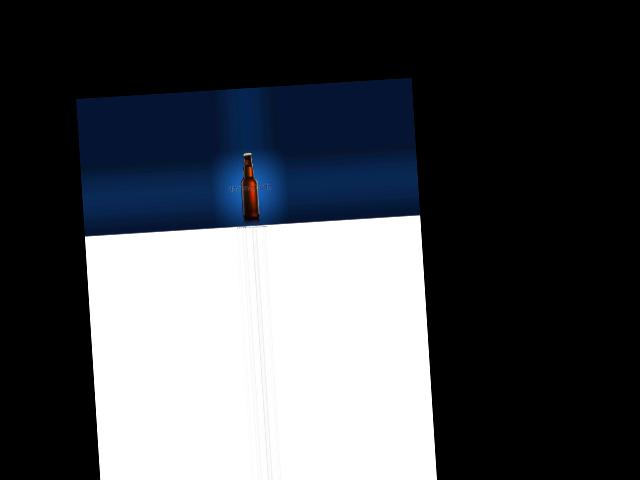beer: (238, 152, 259, 218)
